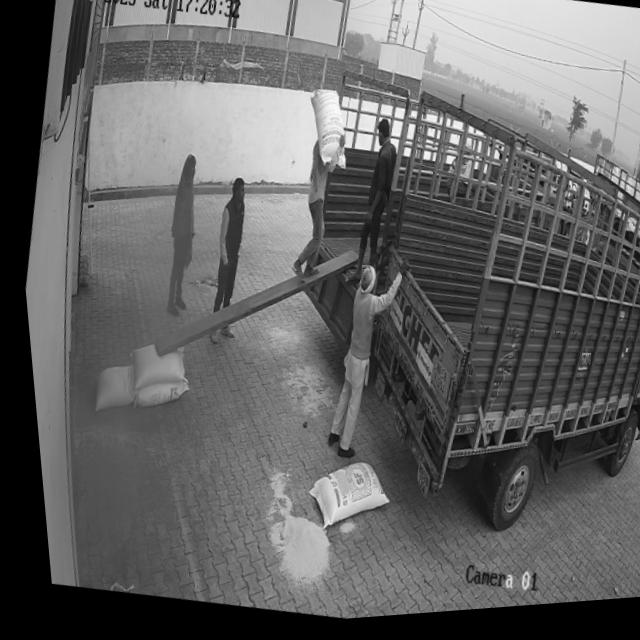sack: (292, 457, 388, 544), (294, 90, 356, 178), (115, 341, 182, 399), (82, 359, 134, 419), (125, 375, 183, 417)
